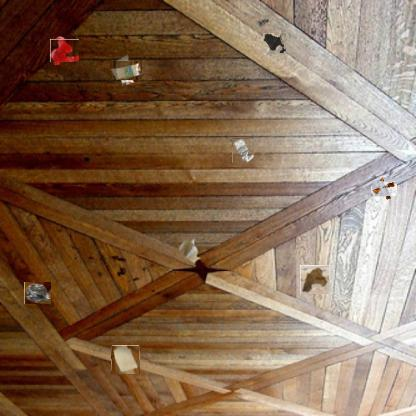dirty: (300, 265, 329, 294), (111, 346, 140, 374), (178, 237, 204, 265), (113, 57, 139, 83), (24, 282, 51, 304), (232, 137, 254, 163), (374, 178, 395, 199)
liquid: (51, 38, 78, 64), (263, 32, 286, 56)
